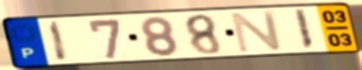7: (85, 18, 125, 60)
8: (139, 15, 181, 58), (183, 13, 224, 56)
I: (292, 8, 316, 51), (47, 20, 71, 63)
N: (228, 9, 285, 54)
